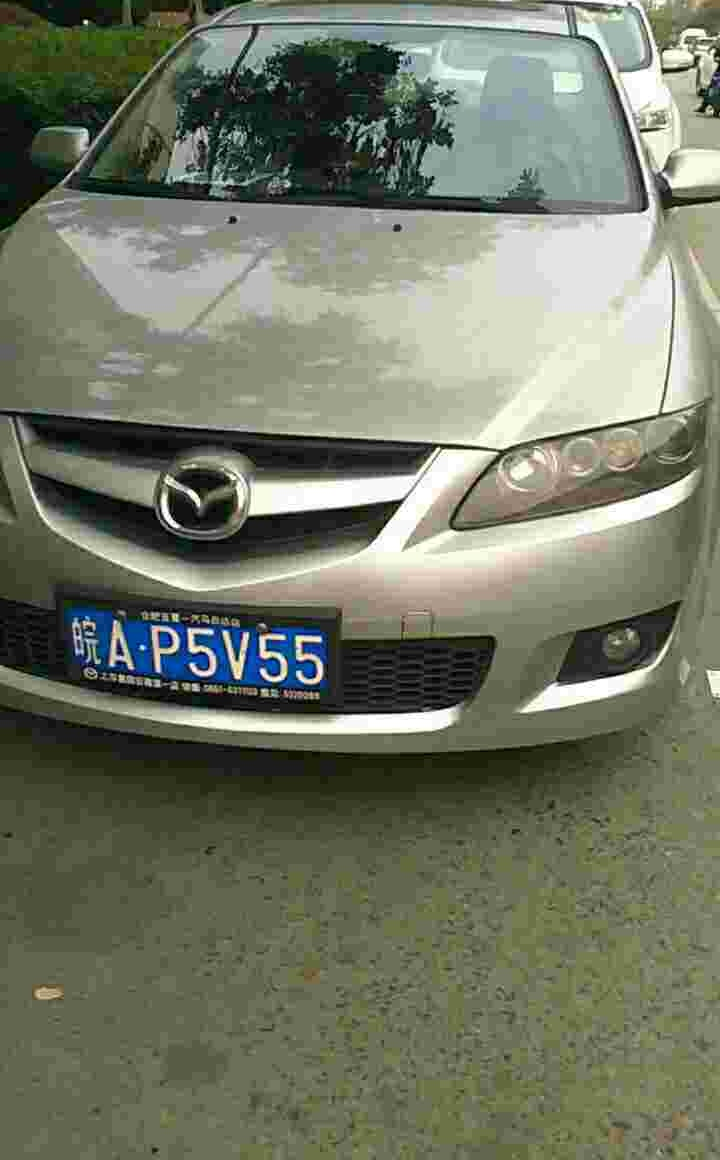car: (63, 608, 331, 684)
